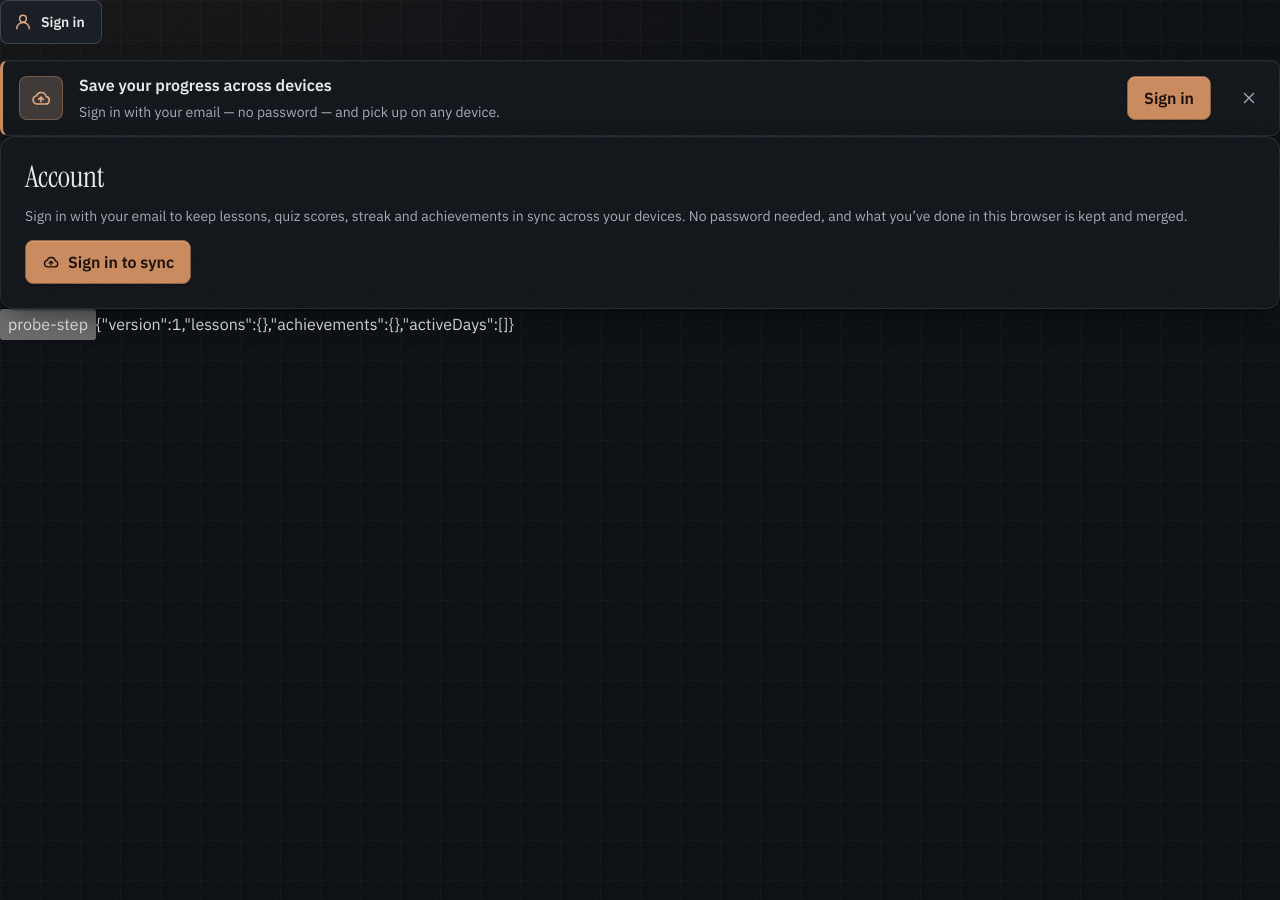
Test case: accounts › checks the email before sending anything
The image size is (1280, 900).
Click the 1st button "Sign in".
click(51, 22)  # box [0,0,102,44]
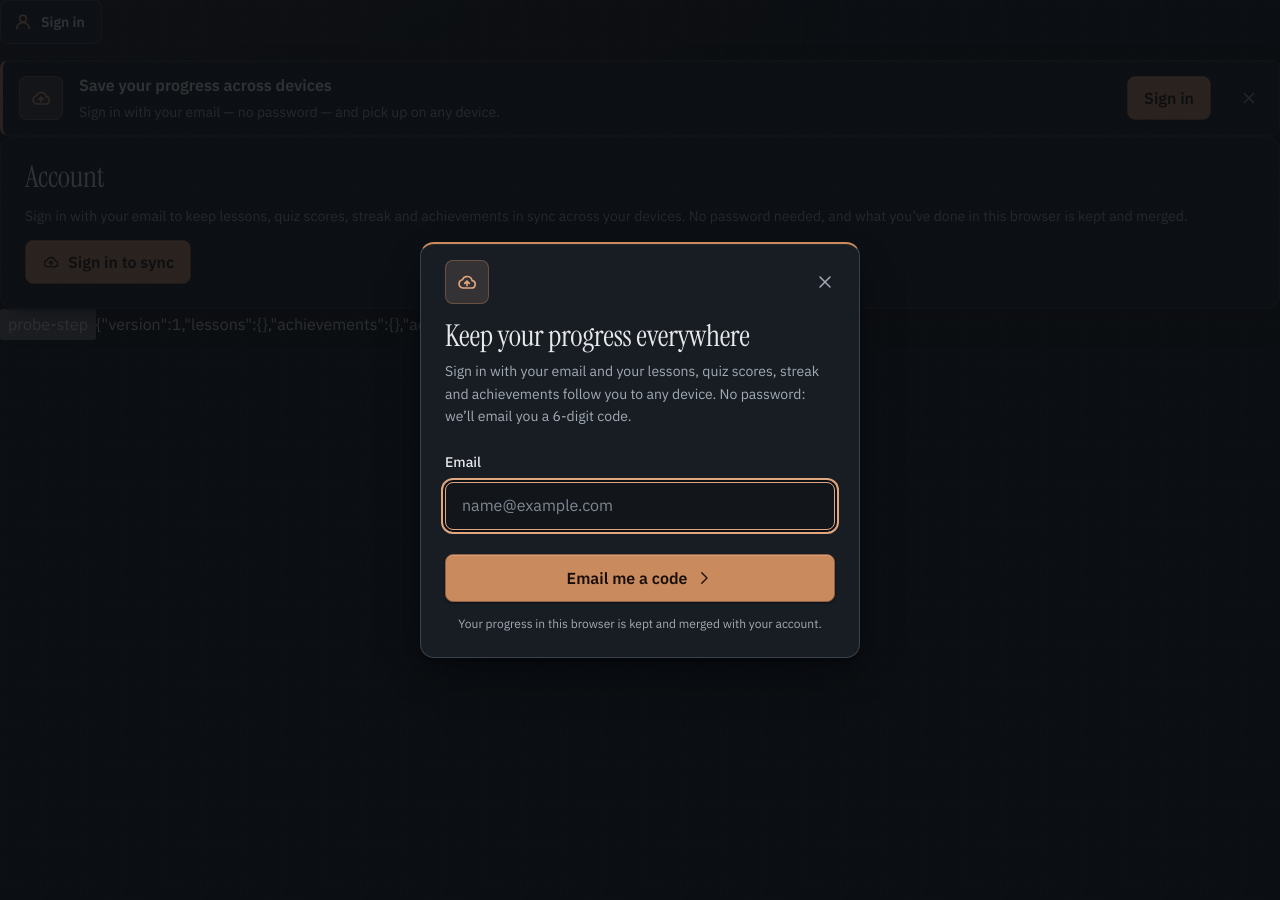
Type "not-an-email" into the field labelled "Email".
click(640, 506); type("not-an-email")  # box [445,482,835,530]
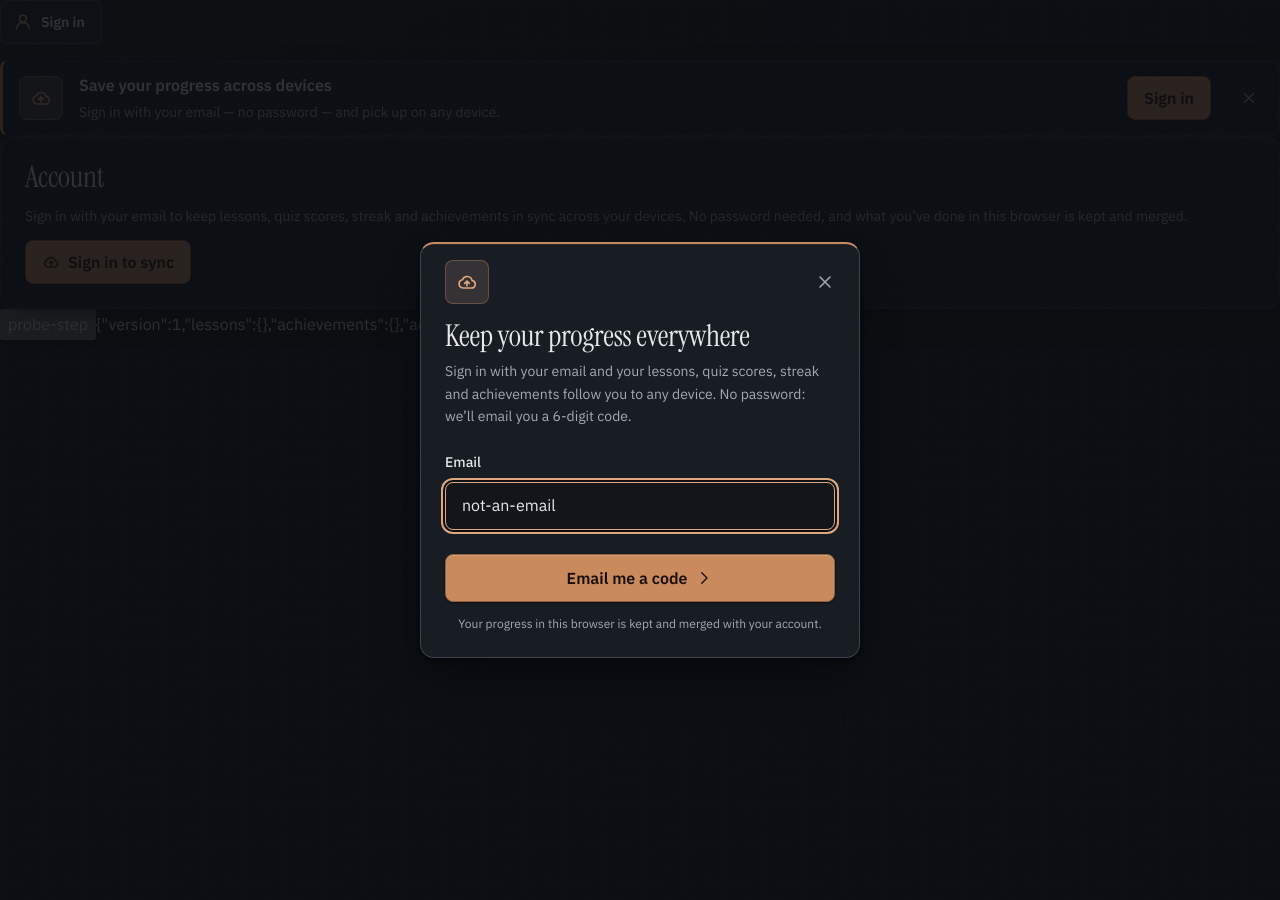
Click the button "Email me a code".
click(640, 578)  # box [445,554,835,602]
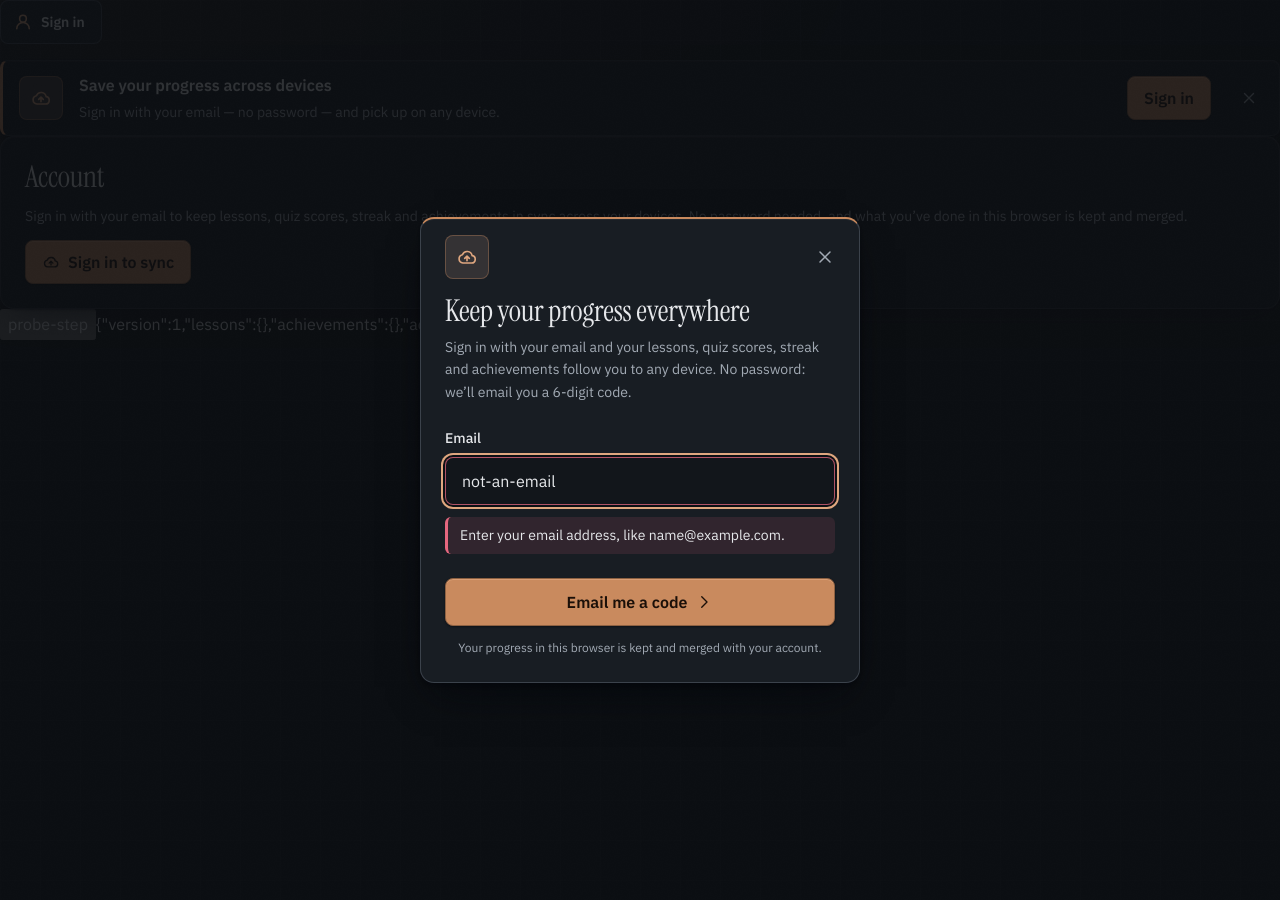
expect the message reads "Enter your email address, like name@example.com.": met, box [460,526,785,544]
